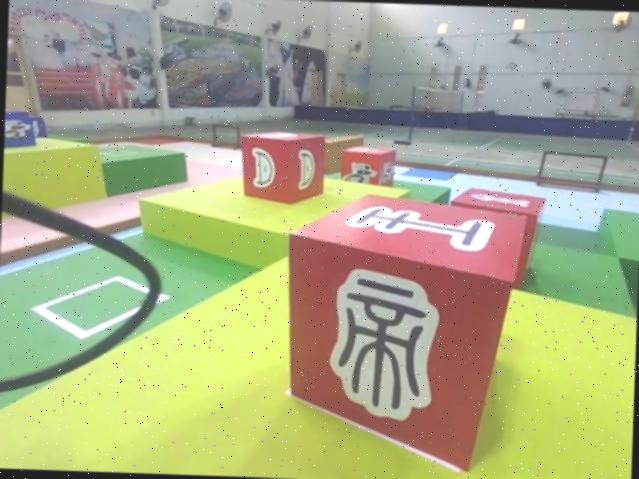R1: (335, 142, 399, 194)
R2 Fake: (272, 186, 530, 479)
R2 Real: (235, 125, 330, 205)
